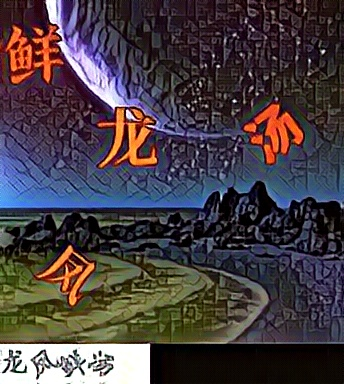B7EF: (32, 241, 97, 305)
C1FA: (93, 106, 158, 170)
CCC0: (242, 102, 307, 166)
CFCA: (5, 23, 70, 87)
